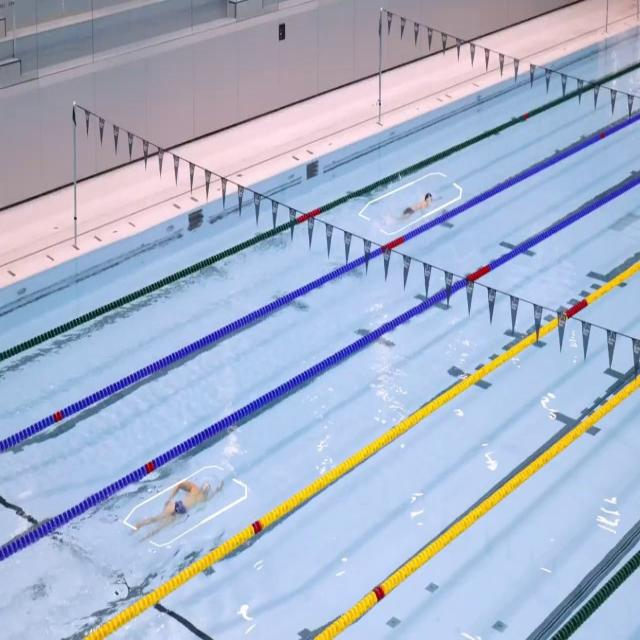Swimming: (129, 476, 224, 544), (384, 191, 444, 228)
